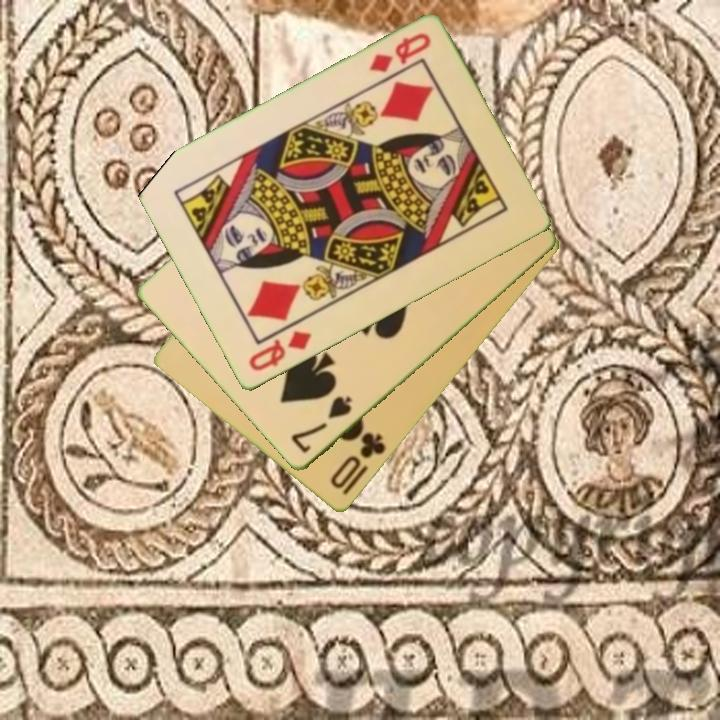10c: (326, 428, 389, 493)
7s: (287, 393, 356, 457)
Qd: (245, 327, 315, 375), (365, 30, 434, 77)
